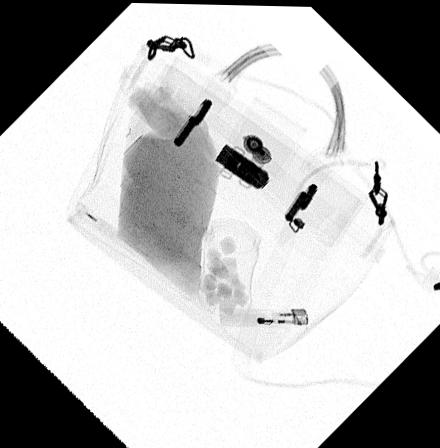Lighter: (220, 306, 308, 330)
